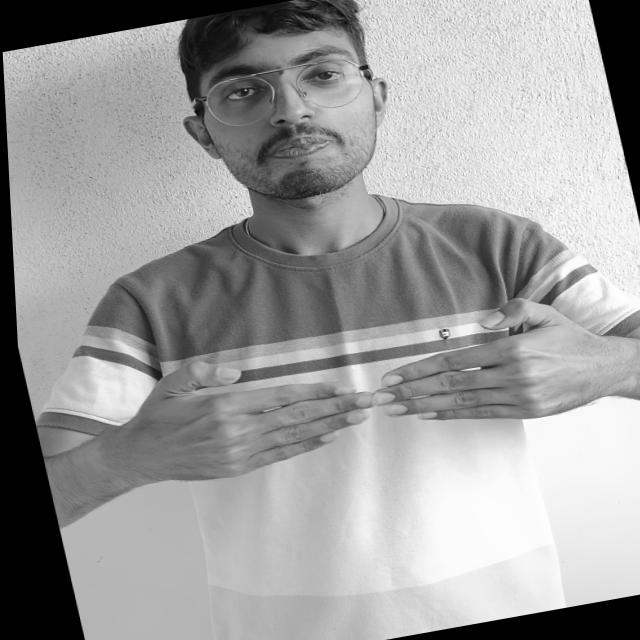Night: (65, 208, 640, 552)
